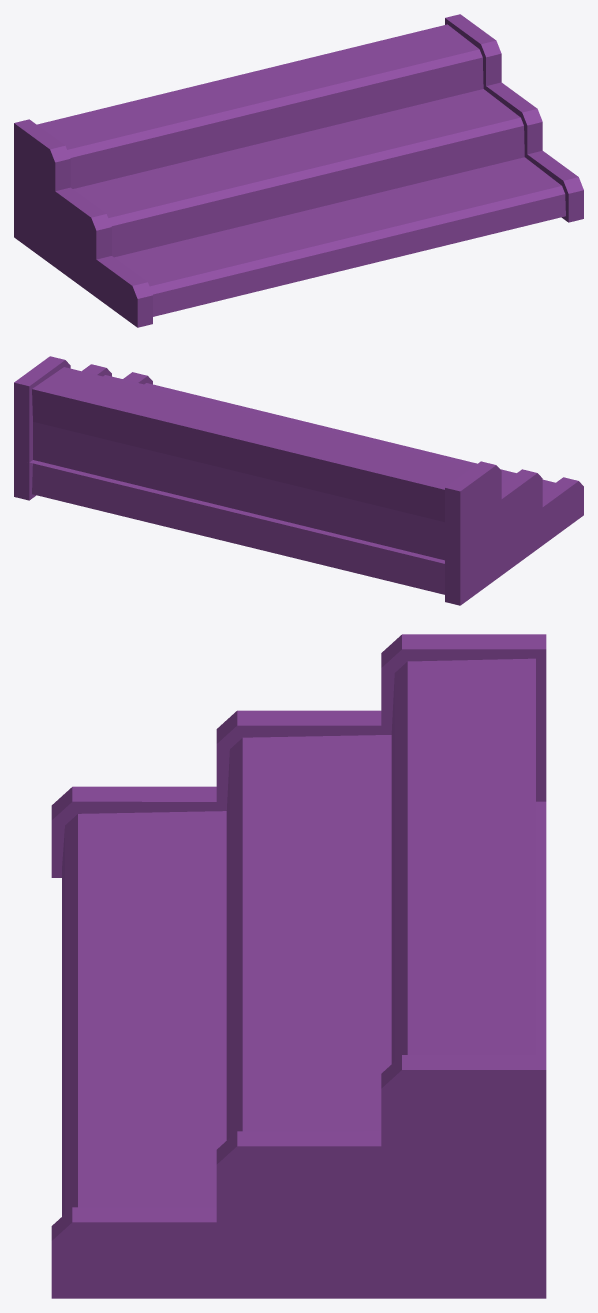
The model's file is SpawnBalconyStairs.fbx.
3 views of the same model, one above another, from view 1: azimuth 30°, elevation 25°; view 2: azimuth 150°, elevation 25°; view 3: azimuth 270°, elevation 25° (orthographic). The views are drawn at different scales.
Visible parts, largest first — view 1: Balcony Stairs; view 2: Balcony Stairs; view 3: Balcony Stairs.
Boxes of the visible parts, left/top/right/bottom form: Balcony Stairs: left=14, top=14, right=583, bottom=327; Balcony Stairs: left=14, top=356, right=583, bottom=605; Balcony Stairs: left=51, top=634, right=546, bottom=1298.
Bounding box in the file's own units: 1251 × 306 × 600.
